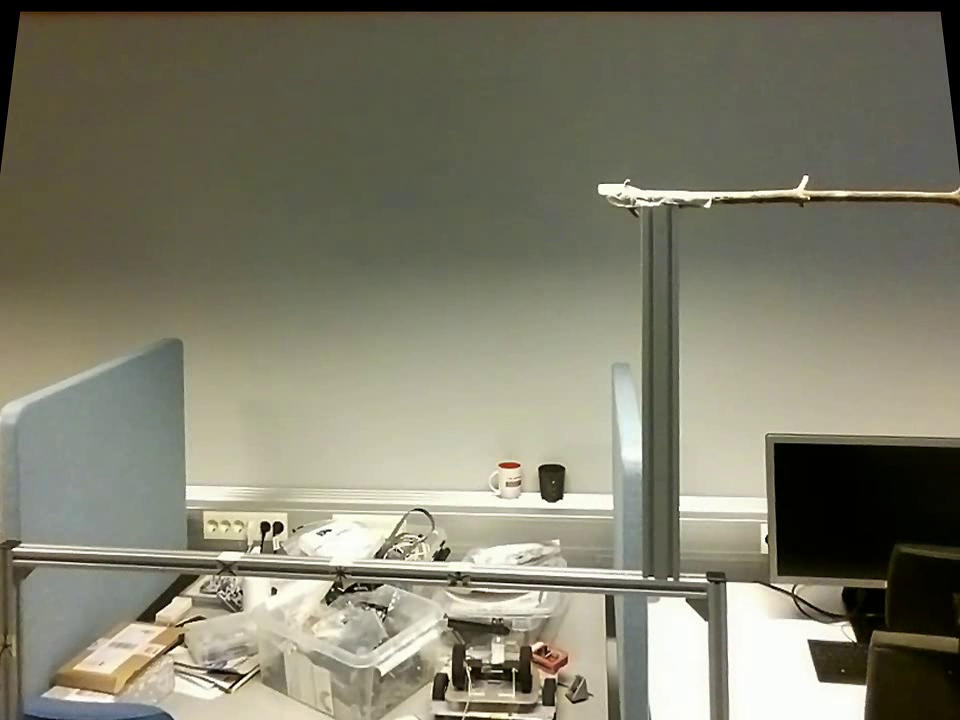aluminum_frame: (12, 537, 708, 598), (637, 210, 687, 576), (1, 535, 27, 718), (703, 571, 734, 717)
branch: (718, 167, 954, 218)
